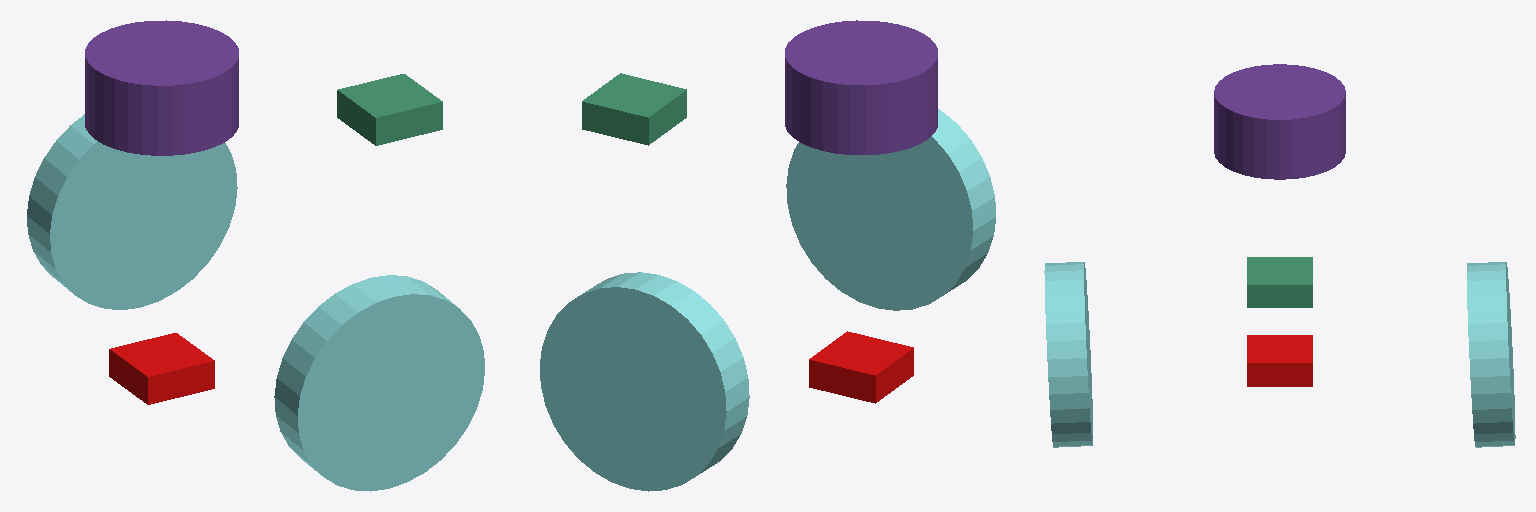
URDF robot description (diff_mobile):
<?xml version="1.0"?>

<robot name="diff_mobile">
<!-- Link -->
	<link name="base_footprint" />

	<link name="base_link">
   		<visual>
			<origin xyz="0 0 0" rpy="0 0 1.5707963268" />
			<geometry>
				<box size="0.05 0.05 0.02"/>
			</geometry>
			<material name="Aluminum">
				<color rgba="0.9 0.1 0.1 1" />
			</material>
   		</visual>



 	</link>

 	<link name="wheel_l">
   		<visual>
			<origin xyz="0 0 0" rpy="0 1.52 0"/>
     			<geometry>
				<cylinder radius="0.07" length="0.03"/>
			</geometry>
   			<material name="Rubber">
				<color rgba="0.6 0.9 0.9 1"/>
			</material>
		</visual>

 	</link>

 	<link name="wheel_r">
   		<visual>
			<origin xyz="0 0 0" rpy="0 1.52 0"/>
     			<geometry>
				<cylinder radius="0.07" length="0.03"/>
				</geometry>
   			<material name="Rubber">
				<color rgba="0.6 0.9 0.9 1"/>
			</material>
		</visual>
	
 	</link>

	<link name="camera_link">
		<visual>
			<origin xyz="0 0 0" rpy="0 0 0"/>
			<geometry>
				<box size="0.05 0.05 0.02"/>
			</geometry>
			<material name="CameraPlastic">
				<color rgba="0.32 0.63 0.482 1.0"/>
			</material>
		</visual>
	</link>

	<link name="lidar_link">
		<visual>
			<origin xyz="0 0 0" rpy="0 0 0"/>
			<geometry>
				<cylinder radius="0.05" length="0.05"/>
			</geometry>
			<material name="lidarPlastic">
				<color rgba="0.482 0.32 0.63 1.0"/>
			</material>
		</visual>
	</link>
	
<!-- Joint --> 
 	<joint name="base_footprint_to_base_link" type="fixed">
 		<parent link="base_footprint"/>
 		<child link="base_link" />
		<origin xyz="0 0 0.03" rpy="0 0 0"/>
 	</joint>
	
 	<joint name="base_to_wheel_l" type="continuous">
   		<parent link="base_link"/>
   		<child link="wheel_l"/>
   		<origin xyz="0.07 0.16 0.038" rpy="0 0 1.5707963268"/>
		<axis xyz="1 0 0"/>
		<dynamics
			friction="1.0"
			damping="1.0" />
 	</joint>

 	<joint name="base_to_wheel_r" type="continuous">
   		<parent link="base_link"/>
   		<child link="wheel_r"/>
   		<origin xyz="0.07 -0.16 0.038" rpy="0 0 1.5707963268"/>
		<axis xyz="1 0 0"/>
		<dynamics
			friction="1.0"
			damping="1.0" />
 	</joint>
	
	<joint name="base_to_camara" type="fixed">
		<origin xyz="0.17 0 0.145" rpy="0.0 0.0 0.0"/>
		<parent link="base_link"/>
		<child link="camera_link"/>
		<axis xyz="0 0 0"/>
	</joint>

	<joint name="base_to_lidar" type="fixed">
		<origin xyz="0 0 0.2" rpy="0.0 0.0 0.0"/>
		<parent link="base_link"/>
		<child link="lidar_link"/>
		<axis xyz="0 0 0"/>
	</joint>


	<!-- gazebo-->
	<gazebo reference="base_link">
		<mu1>0.1</mu1>
		<mu2>0.1</mu2>
		<material> Gazebo/Red </material>
	</gazebo>

	<gazebo reference="wheel_l">
		<mu1>1.0</mu1>
		<mu2>1.0</mu2>

		<kp>500000.0</kp>
		<kd>10.0</kd>
		<material> Gazebo/Black </material>
	</gazebo>

	<gazebo reference="wheel_r">
		<mu1>1.0</mu1>
		<mu2>1.0</mu2>
		
		<kp>500000.0</kp>
		<kd>10.0</kd>
		<material> Gazebo/Black</material>
	</gazebo>

	<gazebo>
		<plugin name="diff_mobile" filename="libgazebo_ros_diff_drive.so">
			<ros>
			<remapping>cmd_vel:=cmd_vel</remapping>
			<remapping>odom:=odom</remapping>
			</ros>

			<update_rate>20</update_rate>
			<left_joint>base_to_wheel_l</left_joint>
			<right_joint>base_to_wheel_r</right_joint>

			<wheel_separation>0.32</wheel_separation>
			<wheel_diameter>0.20</wheel_diameter>

			<max_wheel_torque>20</max_wheel_torque>
			<max_wheel_accleration>0.5</max_wheel_accleration>

			<command_topic>cmd_vel</command_topic>

			<publish_odom>true</publish_odom>
			<publish_odom_tf>true</publish_odom_tf>
			<publish_wheel_tf>true</publish_wheel_tf>

			<odometry_topic>odom</odometry_topic>
			<odometry_frame>odom</odometry_frame>
			<robot_base_frame>fixed_base</robot_base_frame>
		</plugin>
	</gazebo>

	  <!-- camera -->
	<gazebo reference="camera_link">
		<material>Gazebo/Blue</material>
		<sensor type="camera" name="camera1">
		<update_rate>30.0</update_rate>
		<camera name="head">
			<horizontal_fov>1.3962634</horizontal_fov>
			<image>
			<width>800</width>
			<height>800</height>
			<format>R8G8B8</format>
			</image>
			<clip>
			<near>0.02</near>
			<far>300</far>
			</clip>
			<noise>
			<type>gaussian</type>
			<!-- Noise is sampled independently per pixel on each frame.
				That pixel's noise value is added to each of its color
				channels, which at that point lie in the range [0,1]. -->
			<mean>0.0</mean>
			<stddev>0.007</stddev>
			</noise>
		</camera>
		<plugin name="camera_controller" filename="libgazebo_ros_camera.so">
			<alwaysOn>true</alwaysOn>
			<updateRate>0.0</updateRate>
			<cameraName>rrbot/camera1</cameraName>
			<imageTopicName>image_raw</imageTopicName>
			<cameraInfoTopicName>camera_info</cameraInfoTopicName>
			<frameName>camera_link</frameName>
			<hackBaseline>0.07</hackBaseline>
			<distortionK1>0.0</distortionK1>
			<distortionK2>0.0</distortionK2>
			<distortionK3>0.0</distortionK3>
			<distortionT1>0.0</distortionT1>
			<distortionT2>0.0</distortionT2>
		</plugin>
		</sensor>
	</gazebo>

	<!-- lidar -->
	<gazebo reference="lidar_link">
		<sensor type="ray" name="head_lidar_sensor">
		<pose>0 0 0 0 0 0</pose>
		<visualize>false</visualize>
		<update_rate>100</update_rate>
		<ray>
			<scan>
			<horizontal>
				<samples>720</samples>
				<resolution>1</resolution>
				<min_angle>-3.141592</min_angle>
				<max_angle>3.141592</max_angle>
			</horizontal>
			</scan>
			<range>
			<min>0.10</min>
			<max>15.0</max>
			<resolution>1</resolution>
			</range>
			<noise>
			<type>gaussian</type>
			<!-- Noise parameters based on published spec for Hokuyo laser
				achieving "+-30mm" accuracy at range < 10m.  A mean of 0.0m and
				stddev of 0.01m will put 99.7% of samples within 0.03m of the true
				reading. -->
			<mean>0.0</mean>
			<stddev>0.01</stddev>
			</noise>
		</ray>
		<plugin name="gazebo_ros_head_lidar_controller" filename="libgazebo_ros_ray_sensor.so">
			<ros>
				<argument>~/out:=scan</argument>
			</ros>
			<output_type>sensor_msgs/LaserScan</output_type>
			<frameName>lidar_link</frameName>
		</plugin>
		</sensor>
	</gazebo>


</robot>

--- Facts derived from the render (not from the file) ---
3 views of the same robot in one strip: view 1: azimuth 30°, elevation 25°; view 2: azimuth 150°, elevation 25°; view 3: azimuth 270°, elevation 25° (orthographic).
Robot: diff_mobile — 6 links, 5 joints (2 continuous, 3 fixed); root link base_footprint; default pose: every joint at zero.
Visible links, largest first — view 1: wheel_r, wheel_l, lidar_link, camera_link, base_link; view 2: wheel_l, wheel_r, lidar_link, camera_link, base_link; view 3: lidar_link, wheel_l, wheel_r, base_link, camera_link.
Boxes of the visible links, box(x1,y1,x2,y2) form: wheel_r: box(274, 275, 484, 491); wheel_l: box(27, 114, 237, 309); lidar_link: box(85, 20, 238, 155); camera_link: box(337, 74, 442, 145); base_link: box(109, 333, 214, 404); wheel_l: box(540, 272, 749, 491); wheel_r: box(786, 109, 995, 310); lidar_link: box(785, 20, 937, 154); camera_link: box(582, 73, 686, 145); base_link: box(809, 331, 913, 403); lidar_link: box(1214, 64, 1345, 179); wheel_l: box(1467, 262, 1515, 447); wheel_r: box(1044, 262, 1092, 447); base_link: box(1247, 335, 1312, 386); camera_link: box(1247, 257, 1312, 307).
Bounding box of the posed robot: 0.245 × 0.3571 × 0.2577 m (x, y, z).
Geometry: primitives only (box / cylinder / sphere), no mesh files.
